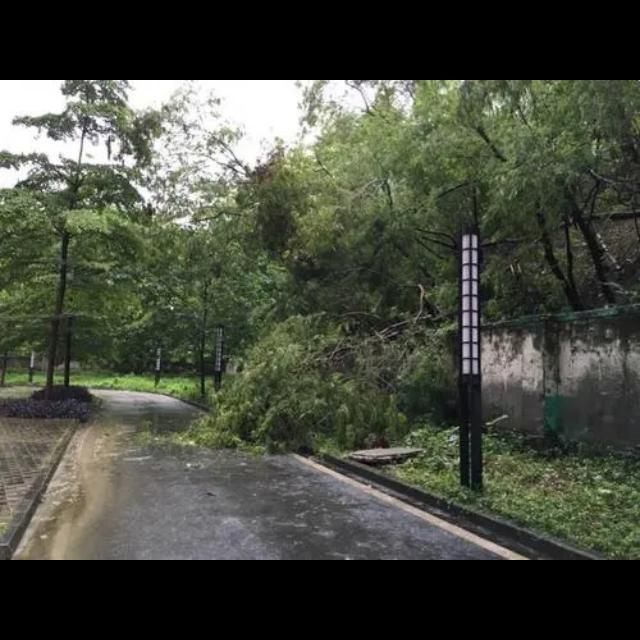fallen_tree: (201, 295, 445, 457)
